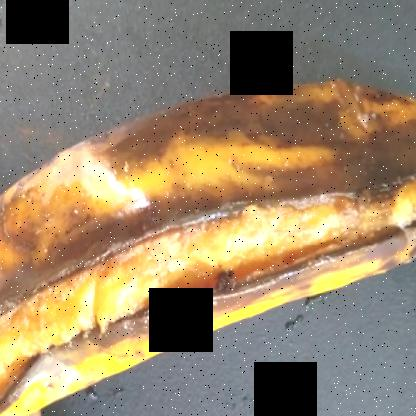rotten: (0, 76, 415, 416)
